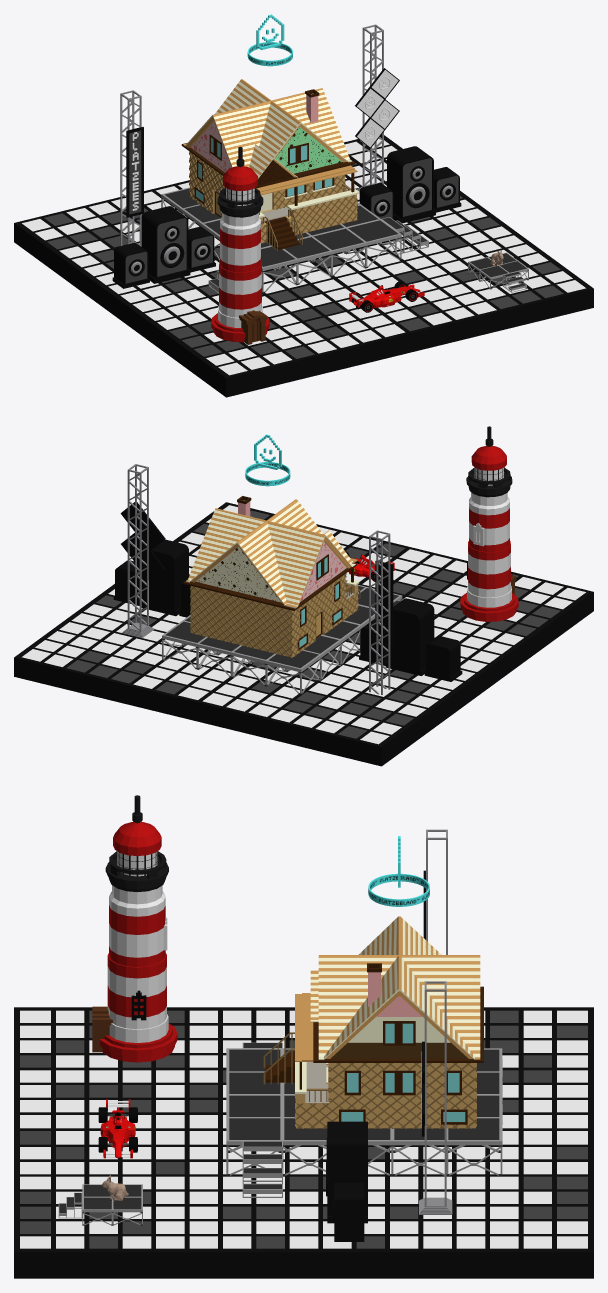
The picture shows the model from 3 angles, top to bottom: view 1: azimuth 30°, elevation 25°; view 2: azimuth 150°, elevation 25°; view 3: azimuth 270°, elevation 25°; orthographic projection. The views are drawn at different scales.
Visible parts, largest first — view 1: Cube.008, Cube.1102, OBJRANDOM_LIGHTHOUSE, VEHICLES_FORMULA_1, TYPE_PREMIUM; view 2: Cube.008, Cube.1102, OBJRANDOM_LIGHTHOUSE, TYPE_PREMIUM; view 3: Cube.008, Cube.1102, OBJRANDOM_LIGHTHOUSE, VEHICLES_FORMULA_1, TYPE_PREMIUM.
Part boxes in pixels (x1,y1,x2,y2): Cube.008: (14,24,593,397); Cube.1102: (181,79,359,250); OBJRANDOM_LIGHTHOUSE: (211,146,269,344); VEHICLES_FORMULA_1: (349,281,424,312); TYPE_PREMIUM: (247,14,292,66); Cube.008: (14,464,593,766); Cube.1102: (183,496,360,657); OBJRANDOM_LIGHTHOUSE: (460,426,518,621); TYPE_PREMIUM: (245,434,290,486); Cube.008: (14,829,593,1278); Cube.1102: (263,916,483,1128); OBJRANDOM_LIGHTHOUSE: (92,795,177,1062); VEHICLES_FORMULA_1: (98,1099,137,1158); TYPE_PREMIUM: (368,836,429,906).
Bounding box in the file's own units: 4000 × 2528 × 4000.
Materials: 45 (3 with a texture image).
